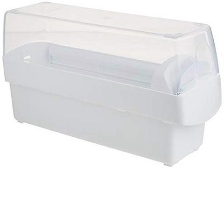plastic_box: (0, 0, 224, 171)
